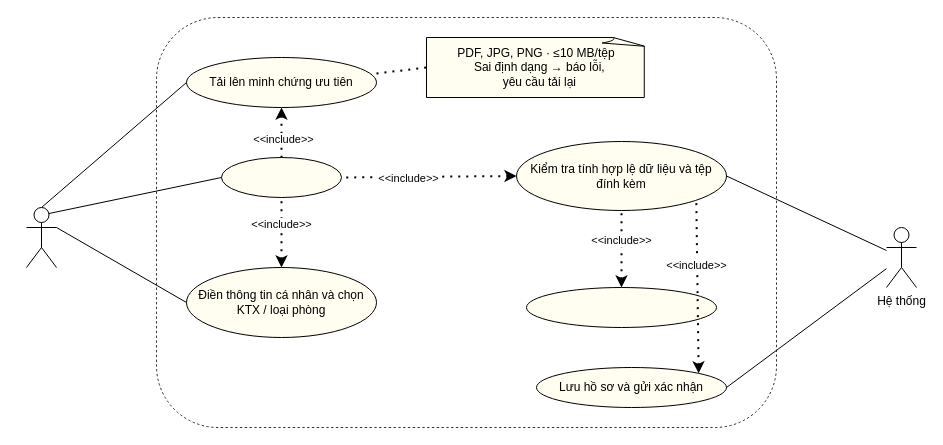
This 943x445 diagram has some shape labels left out. The centre of each missing label's shape, as x and y in pixels:
Sinh viên: the point at 41,237
Tính điểm ưu tiên sơ bộ: the point at 621,307
Đăng ký chỗ ở KTX: the point at 281,177
